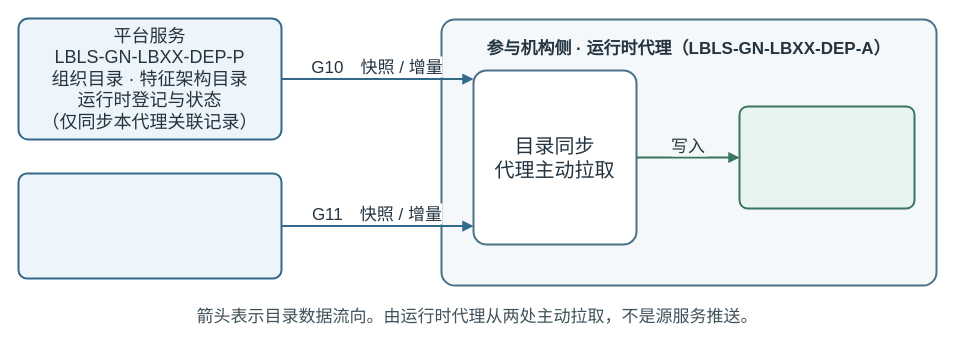
Some shapes in this 954 by 353 pixel diagram are drawn without their labels. Each missing label, with the centre of its shape:
"代理本地目录 保存同步后的目录数据" goes at point (826, 157).
"支撑服务 LBLS-GN-LBXX-DEP-S 字典值目录 字典值翻译目录" goes at point (149, 225).
